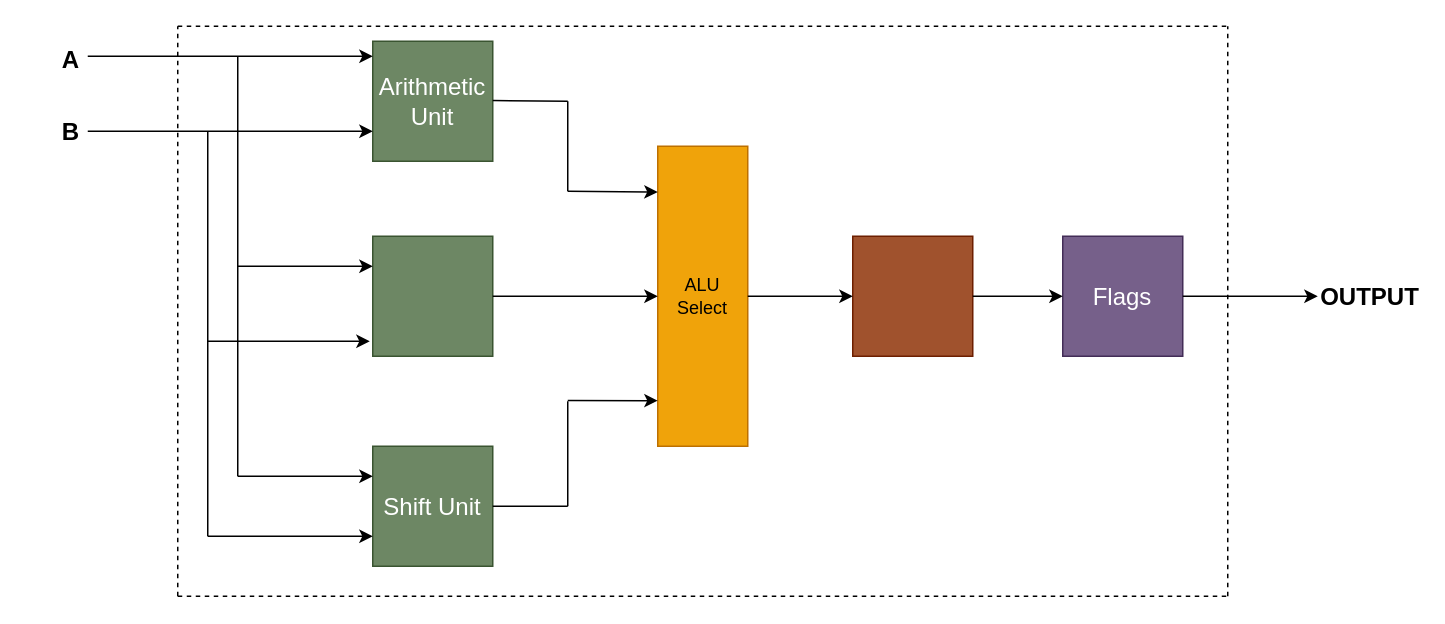
The diagram is 1445 pixels wide and 624 high, and some of its shapes have lost their labels. The box of each missing label's shape, as (x1, y1, x2, y2) in pixels:
Logic Unit: (371, 235, 493, 356)
Result: (851, 235, 973, 356)
